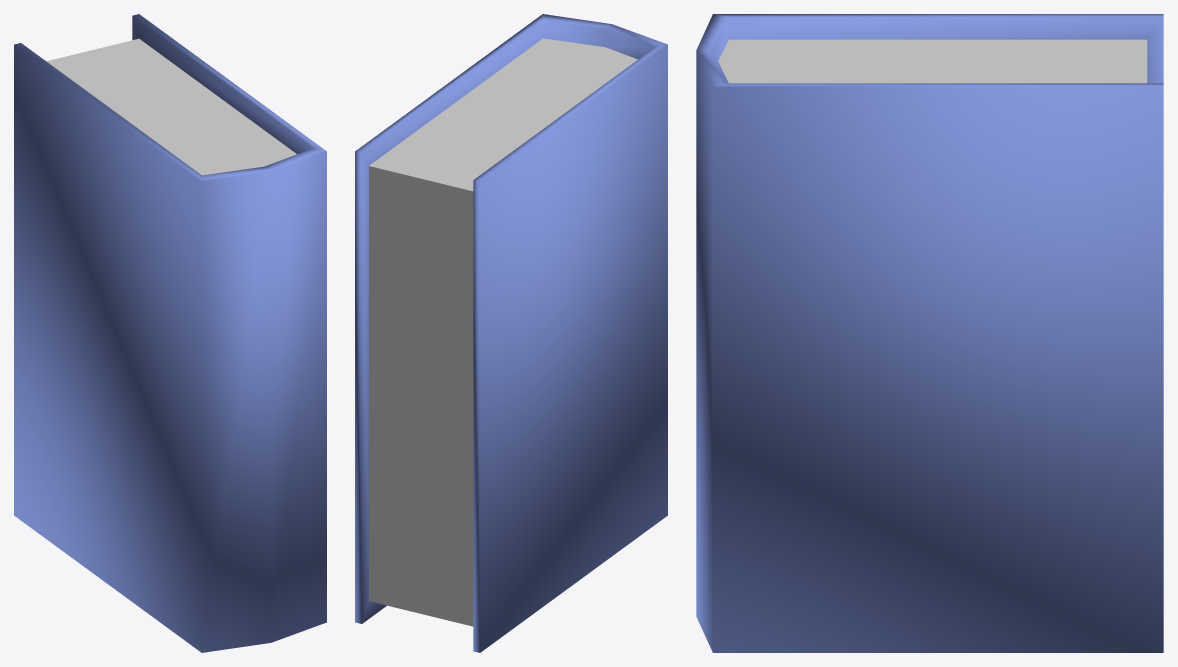
Rendered from Blue_book.dae.
3 renders of one model, left to right at view 1: azimuth 30°, elevation 25°; view 2: azimuth 150°, elevation 25°; view 3: azimuth 270°, elevation 25°, orthographic. The views are drawn at different scales.
Parts seen in each view (by area): view 1: Book_Blue_medium; view 2: Book_Blue_medium; view 3: Book_Blue_medium.
Boxes of the visible parts, box(x1,y1,x2,y2) form: Book_Blue_medium: box(14, 14, 326, 652); Book_Blue_medium: box(355, 14, 667, 652); Book_Blue_medium: box(696, 14, 1163, 652).
Size of the model in its own units: 0.05 by 0.1348 by 0.18.
